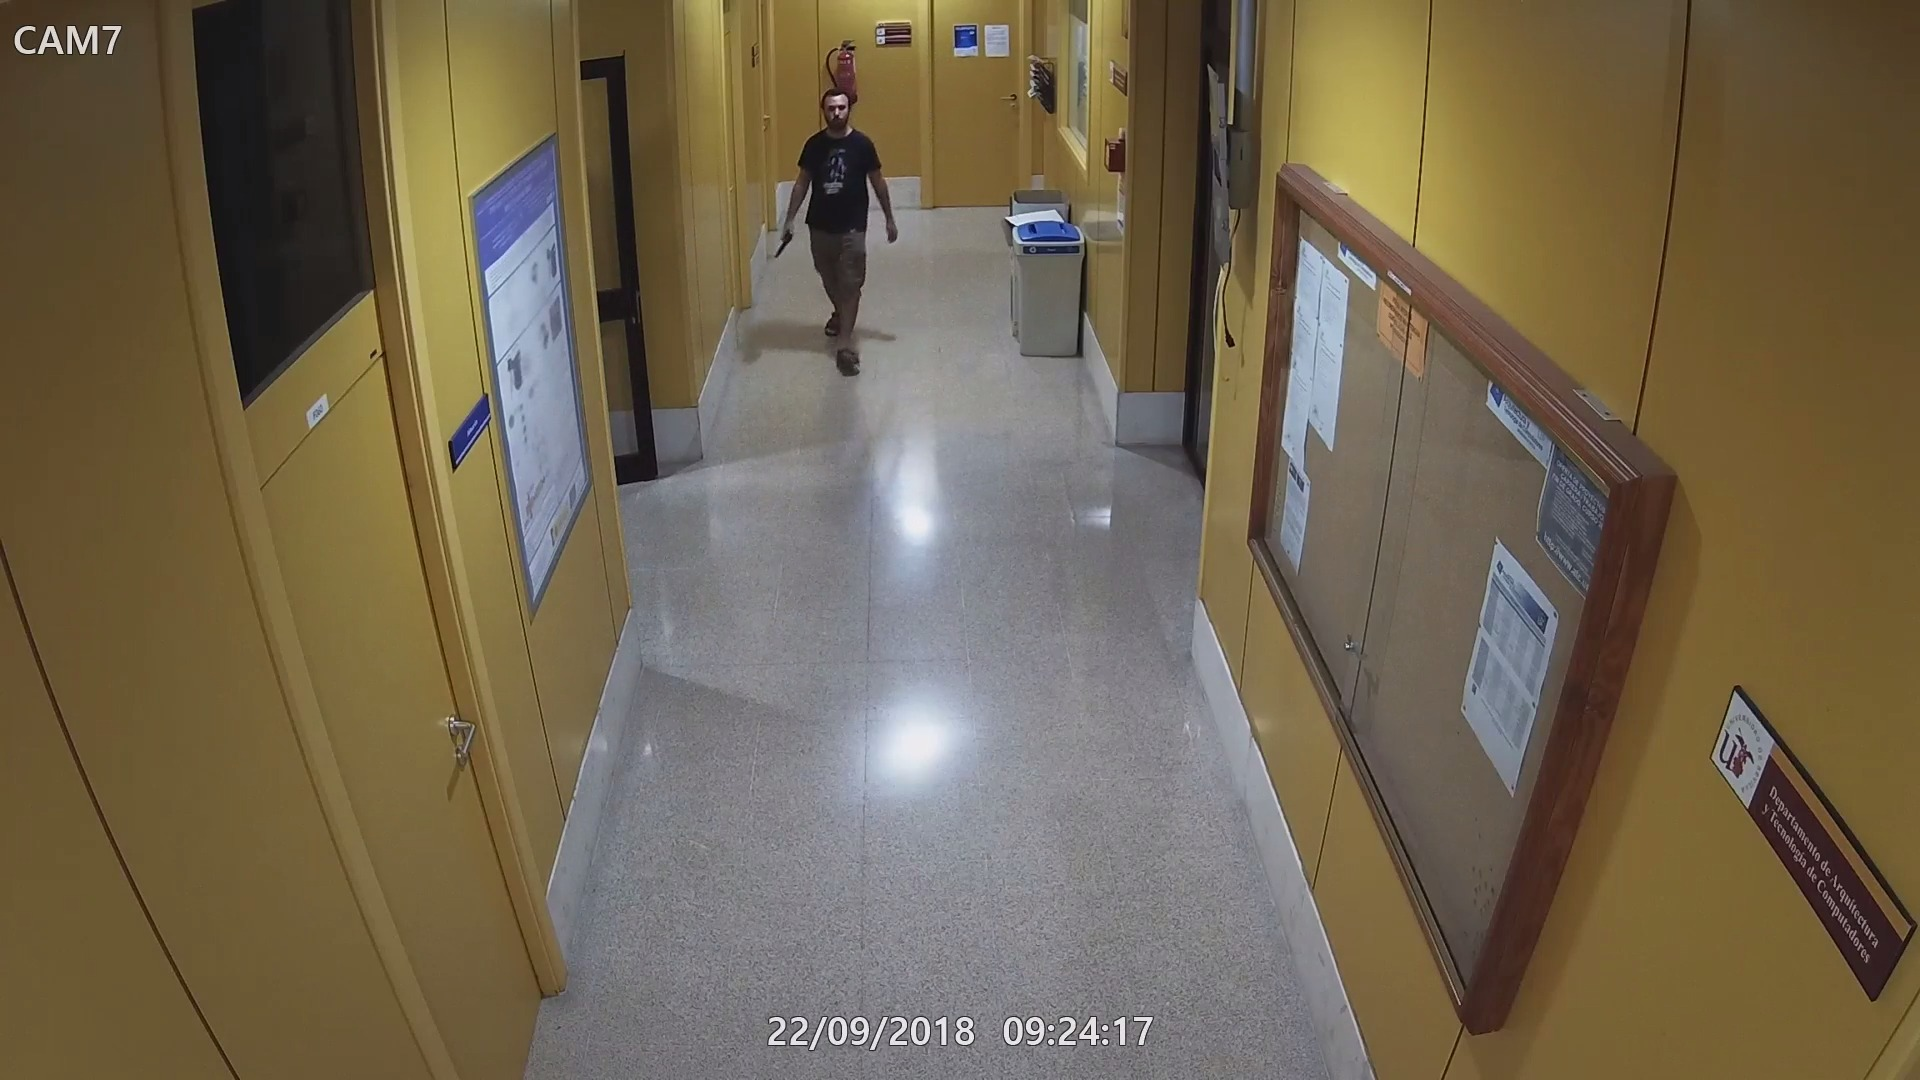Handgun: (770, 224, 796, 260)
